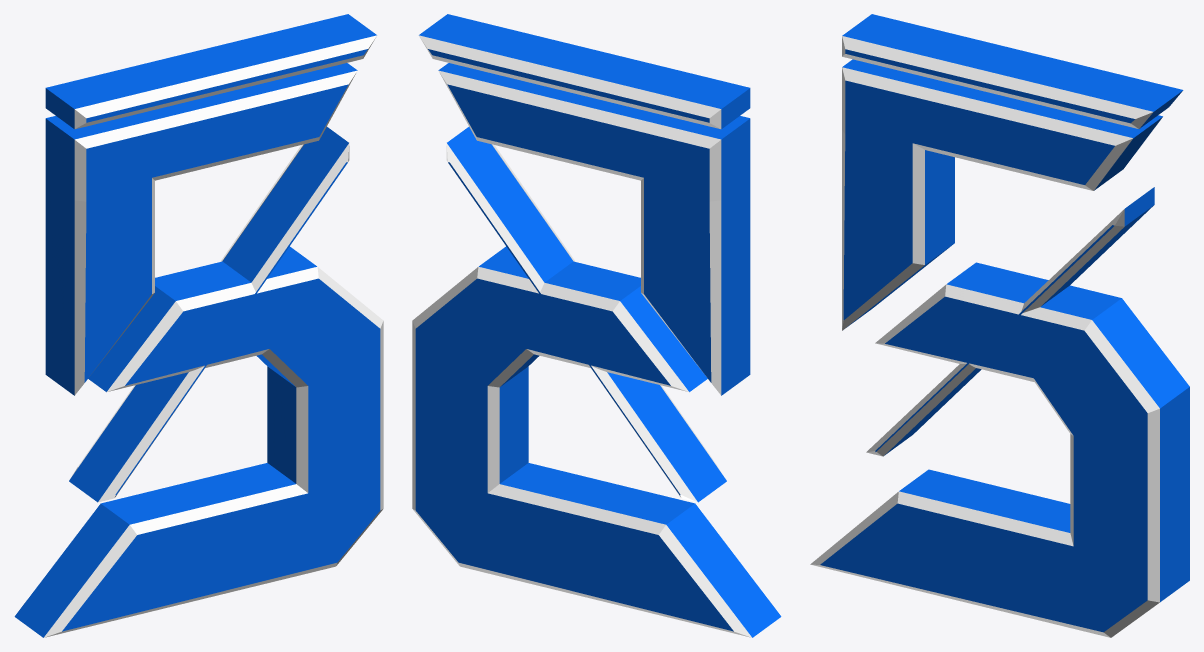
The model's file is number_5.fbx.
The picture shows the model from 3 angles, left to right: view 1: azimuth 30°, elevation 25°; view 2: azimuth 150°, elevation 25°; view 3: azimuth 330°, elevation 25°; orthographic projection. The views are drawn at different scales.
Parts seen in each view (by area): view 1: 5; view 2: 5; view 3: 5.
Part boxes in pixels (x1,y1,x2,y2): 5: [14, 14, 383, 637]; 5: [412, 14, 781, 637]; 5: [810, 14, 1189, 637].
Size of the model in its own units: 135 by 198 by 26.
